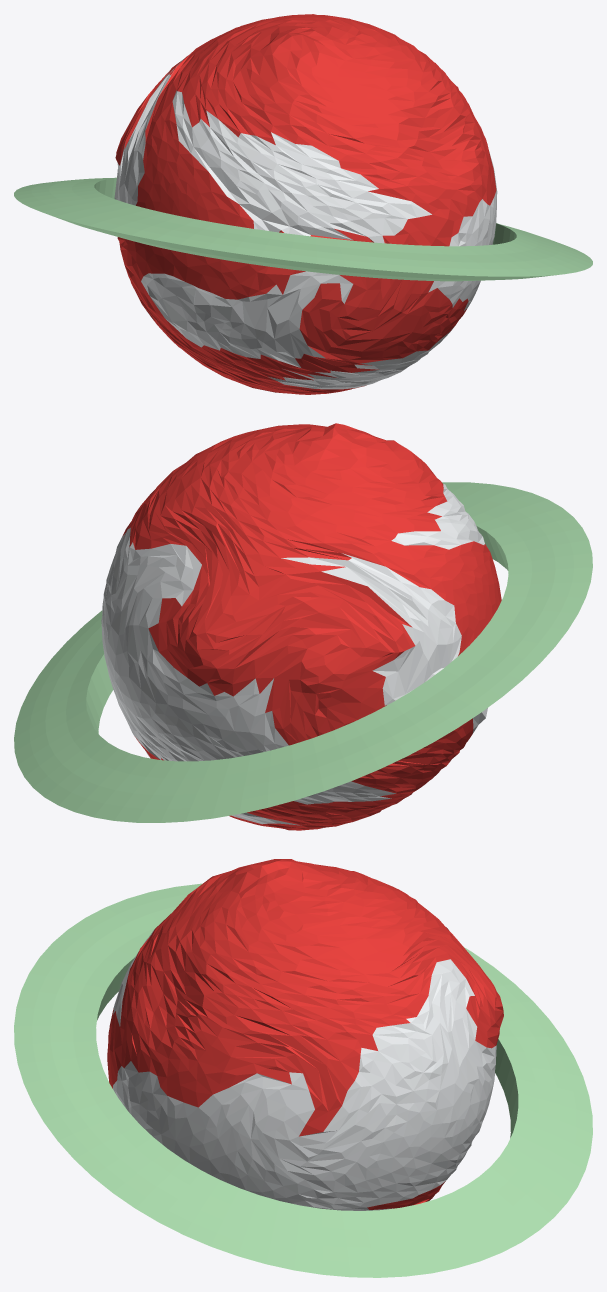
The model's file is Planet_30.glb.
The picture shows the model from 3 angles, top to bottom: view 1: azimuth 30°, elevation 25°; view 2: azimuth 150°, elevation 25°; view 3: azimuth 270°, elevation 25°; orthographic projection. The views are drawn at different scales.
Parts seen in each view (by area): view 1: Planet_30; view 2: Planet_30; view 3: Planet_30.
Boxes of the visible parts, x1=… form: Planet_30: x1=14, y1=14, x2=592, y2=394; Planet_30: x1=14, y1=423, x2=592, y2=830; Planet_30: x1=14, y1=859, x2=592, y2=1277.
Size of the model in its own units: 29.44 by 20.98 by 29.78.
Materials: 1 (1 with a texture image).
